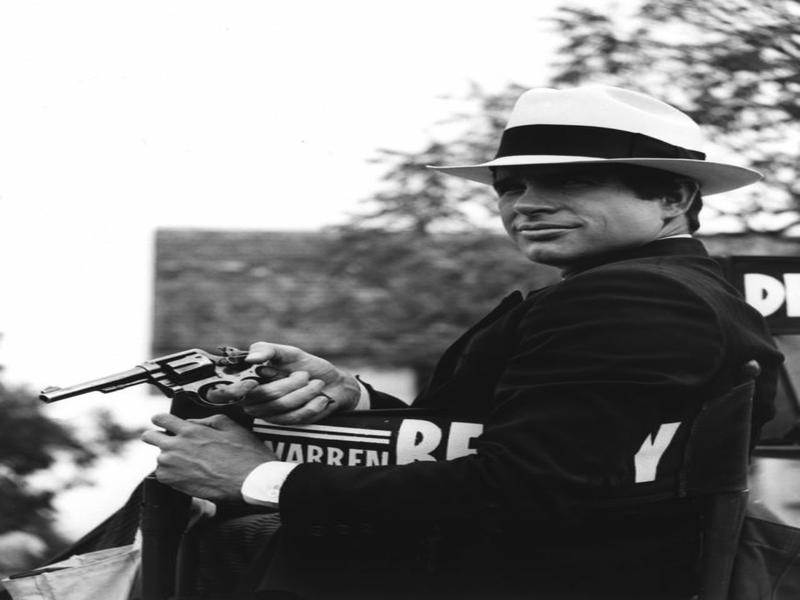Revolver: (31, 342, 290, 413)
